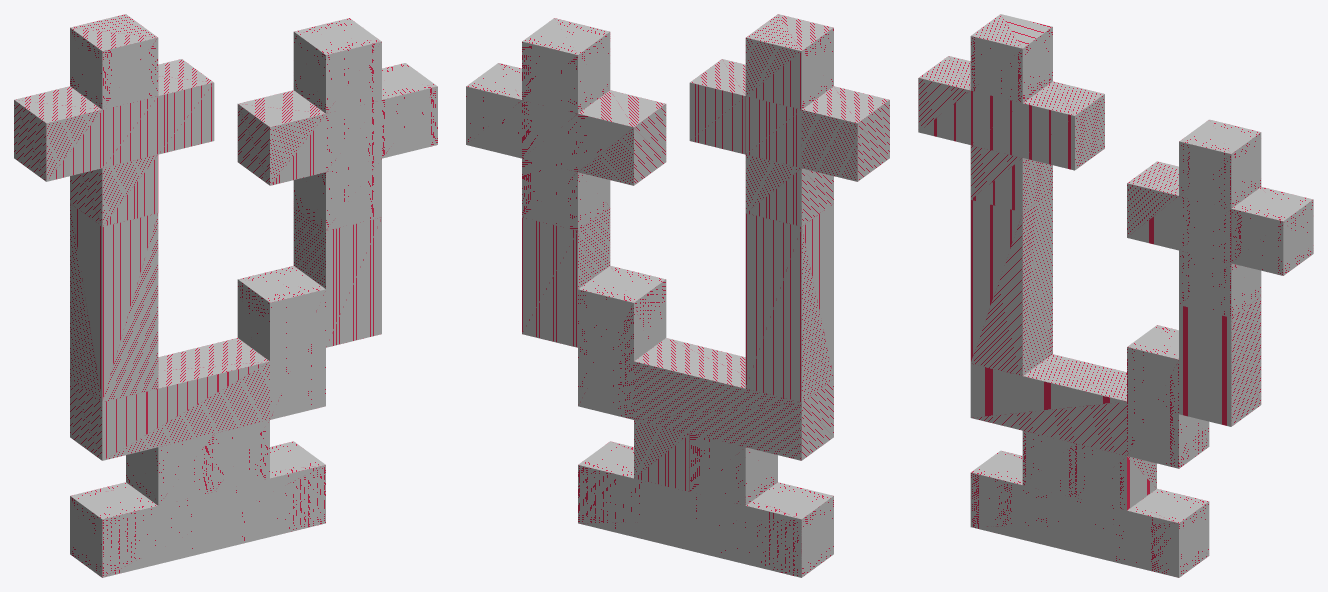
File: flower-01.fbx
3 renders of one model, left to right at view 1: azimuth 30°, elevation 25°; view 2: azimuth 150°, elevation 25°; view 3: azimuth 330°, elevation 25°, orthographic. The views are drawn at different scales.
Visible parts, largest first — view 1: generated; view 2: generated; view 3: generated.
Part boxes in pixels (x1,y1,x2,y2): generated: (14,14,437,577); generated: (466,14,889,577); generated: (918,14,1313,577).
Size of the model in its own units: 70 by 90 by 10.
Materials: 1 (1 with a texture image).
